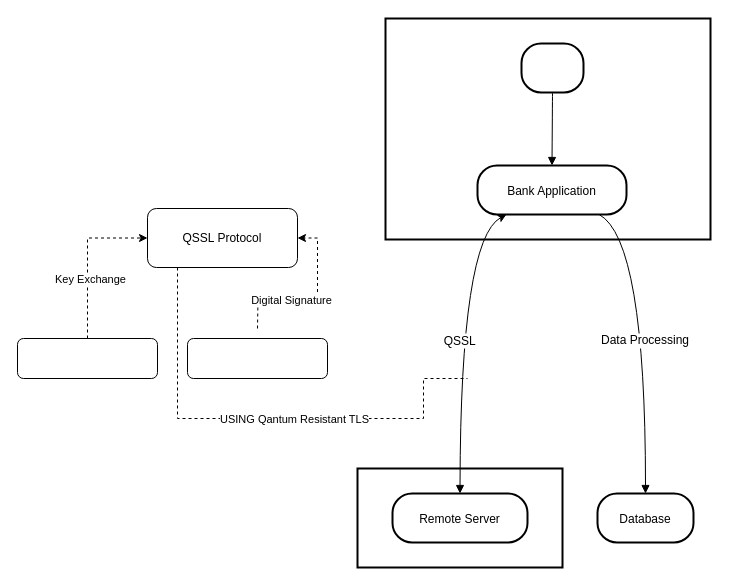
Image size: 729x585. Some labels were removed from this diagram. The box of each missing label's shape, as (x1, y1, x2, y2) in pixels:
Crystal Dilithium: (186, 338, 328, 378)
Crystal Kyber (Kem): (16, 338, 158, 378)
User: (520, 42, 584, 93)
